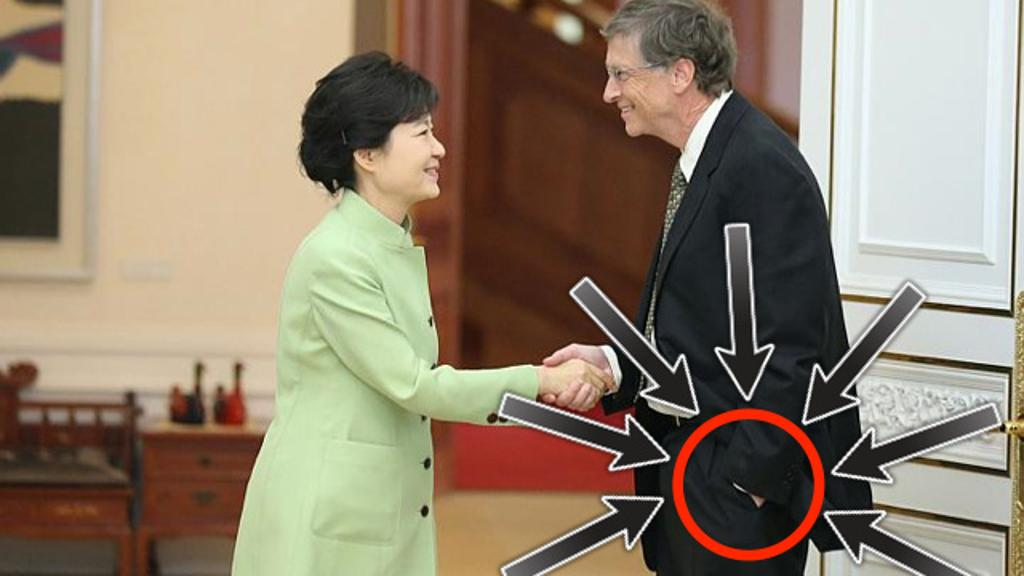face: (382, 88, 446, 200), (602, 28, 666, 136)
